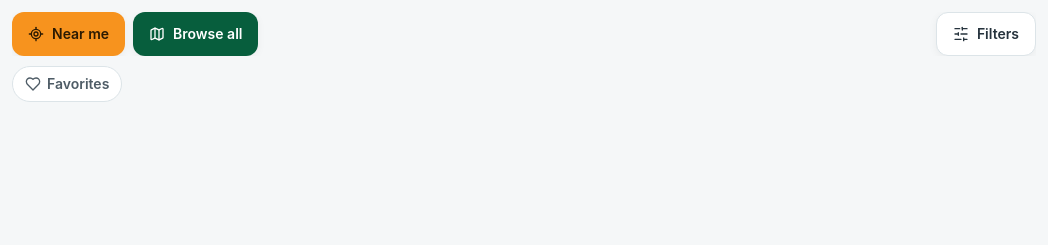
Scenario: initial timeout (test B) › shows a fatal error and stays in browse mode
The image size is (1048, 245).
What coordinates should you click on to do the following:
click the button "Near me"
I would click on:
 (69, 34)
Its box is [12,12,125,56].
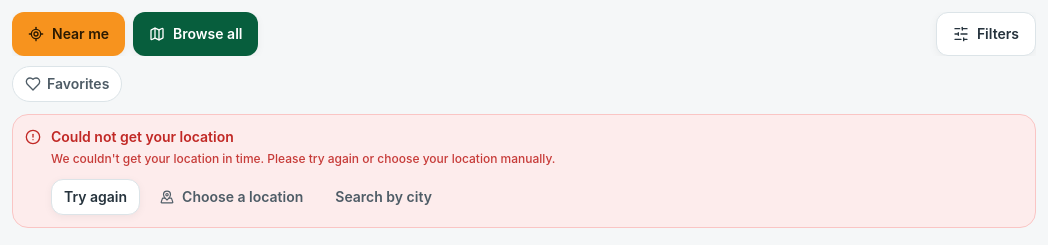
Expected: the text "Could not get your location" is shown, [51,128,234,145]
Expected: the text "couldn't get your location in time" is shown, [51,151,556,166]
Expected: the button "Try again" is shown, [51,178,140,214]
